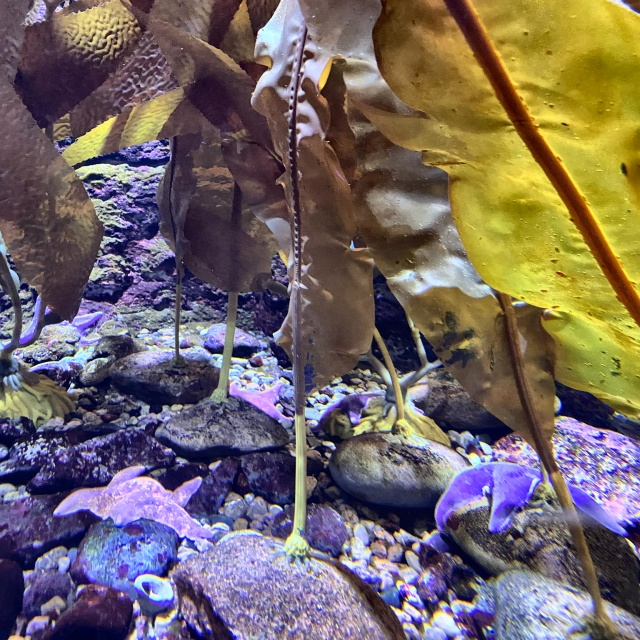starfish: (435, 463, 621, 534), (57, 467, 213, 541), (230, 381, 290, 421), (320, 393, 382, 423)
